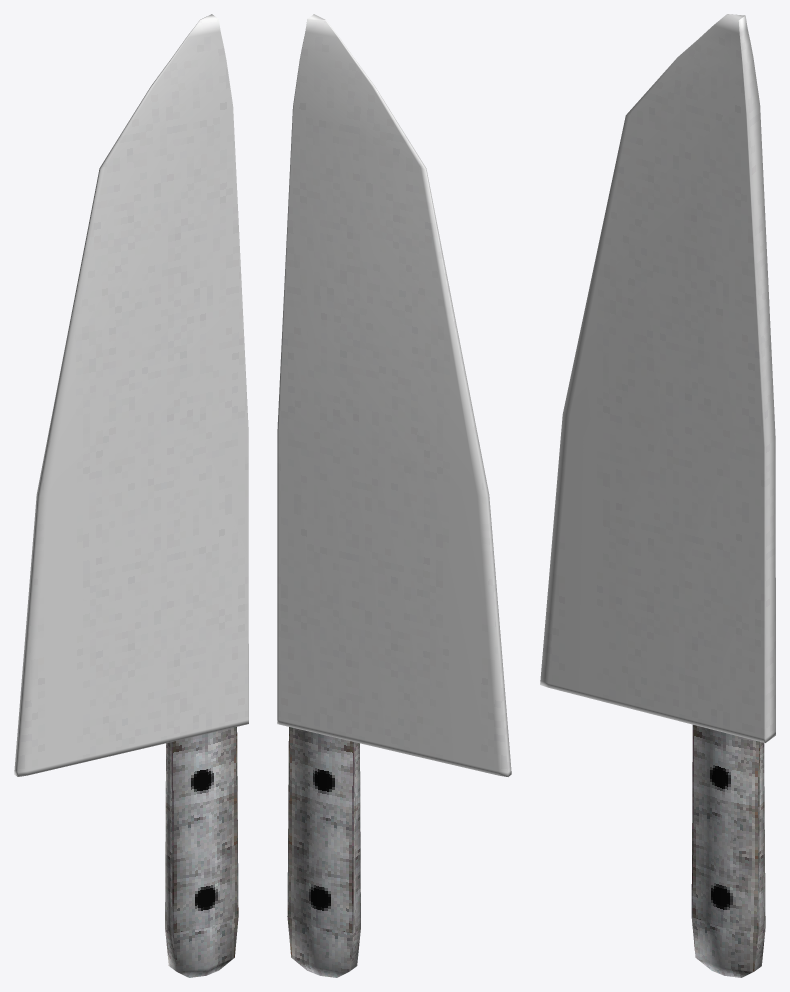
File: ButcherKnife.fbx
The picture shows the model from 3 angles, left to right: view 1: azimuth 30°, elevation 25°; view 2: azimuth 150°, elevation 25°; view 3: azimuth 330°, elevation 25°; orthographic projection.
Visible parts, largest first — view 1: main; view 2: main; view 3: main.
Boxes of the visible parts, x1,y1,x2,y2 form: main: [14, 14, 248, 977]; main: [277, 14, 511, 977]; main: [540, 14, 775, 977].
Size of the model in its own units: 95.29 by 381 by 11.19.
